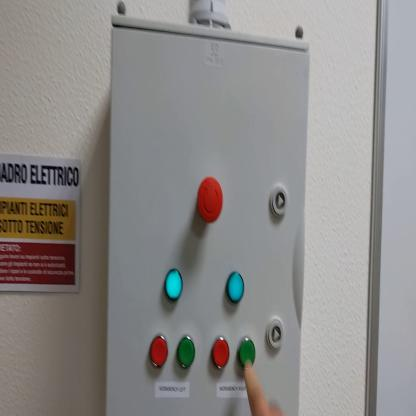hand: (245, 361, 284, 414)
left green button: (178, 337, 196, 371)
left red button: (149, 335, 170, 370)
right green button: (239, 338, 257, 369)
right red button: (212, 335, 230, 372)
